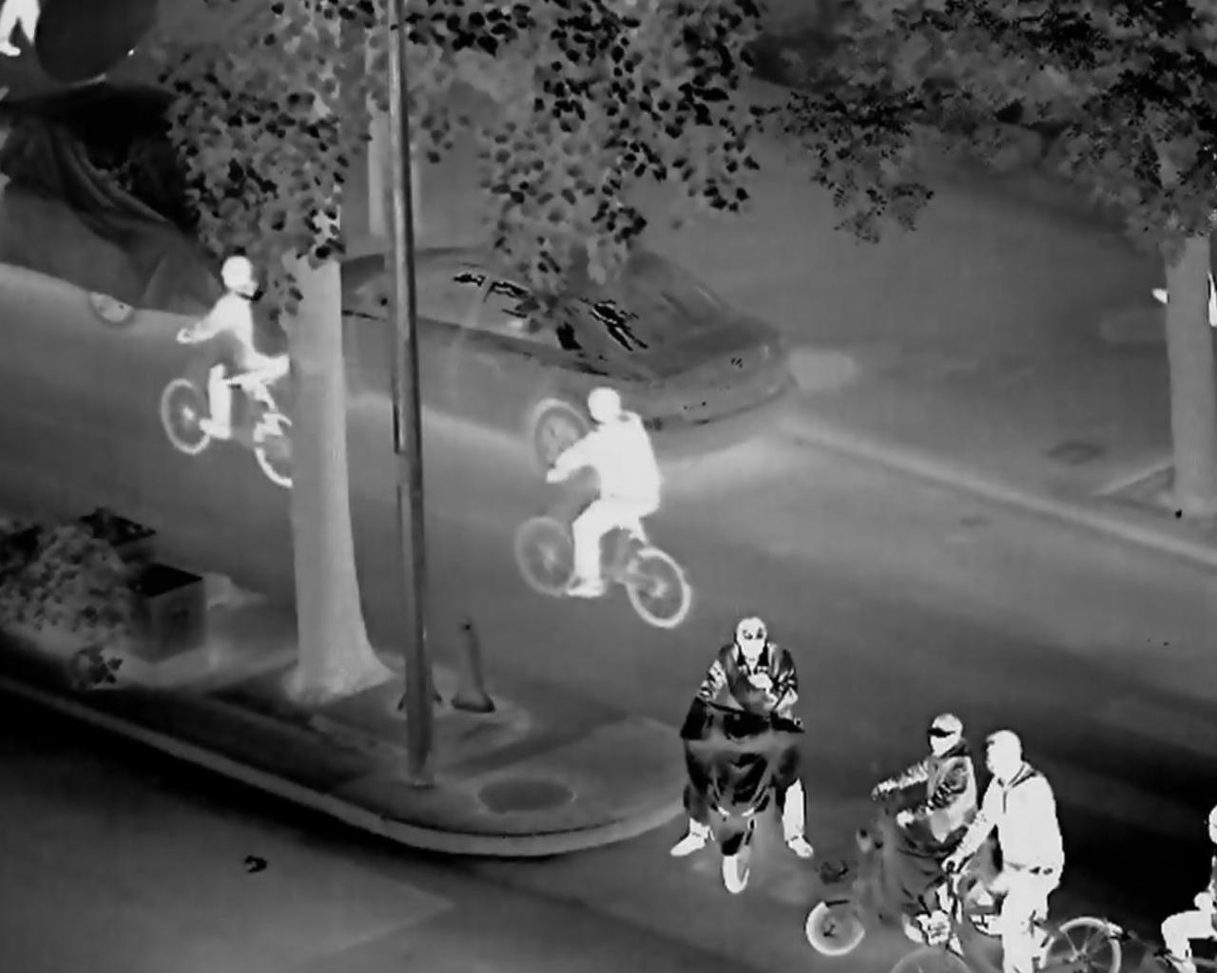person: (662, 605, 823, 901), (942, 721, 1081, 973), (546, 367, 679, 601), (177, 252, 302, 461), (876, 703, 992, 927), (1154, 787, 1216, 973)
